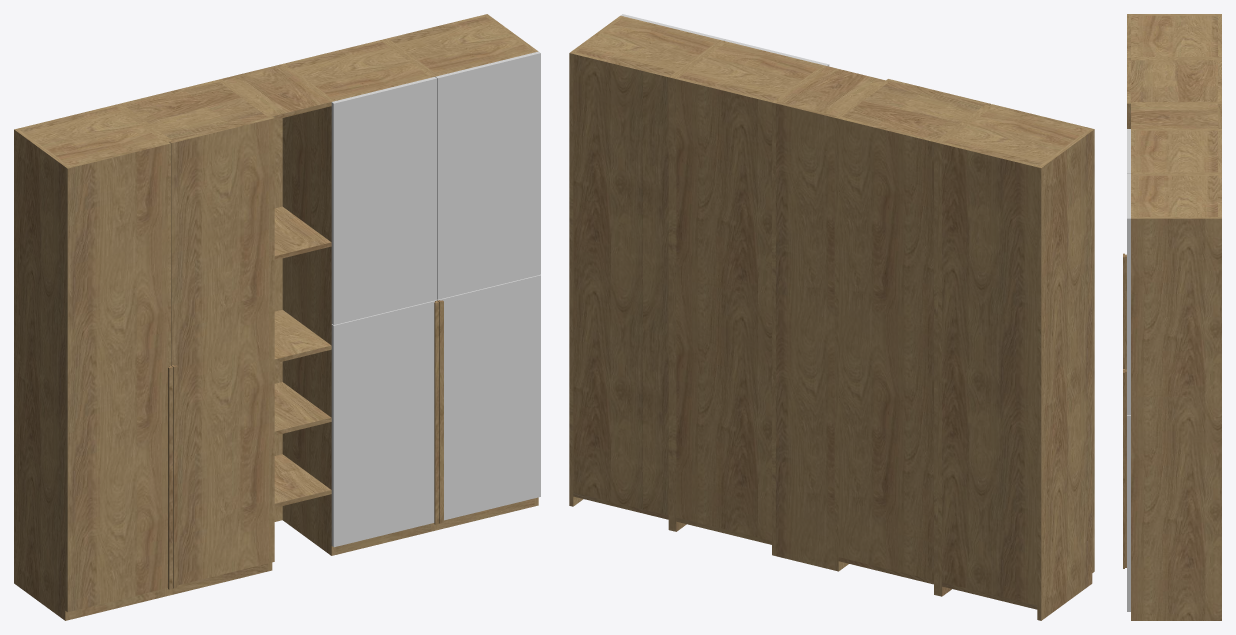
Rendered from wardrobe_nordic.glb.
The picture shows the model from 3 angles, left to right: view 1: azimuth 30°, elevation 25°; view 2: azimuth 150°, elevation 25°; view 3: azimuth 270°, elevation 25°; orthographic projection. The views are drawn at different scales.
Visible parts, largest first — view 1: Nordic Harmony Wardrobe; view 2: Nordic Harmony Wardrobe; view 3: Nordic Harmony Wardrobe.
Boxes of the visible parts, x1=… form: Nordic Harmony Wardrobe: x1=14, y1=14, x2=540, y2=620; Nordic Harmony Wardrobe: x1=569, y1=14, x2=1094, y2=620; Nordic Harmony Wardrobe: x1=1123, y1=14, x2=1221, y2=620.
Bounding box in the file's own units: 2.4 × 2.2 × 0.49.
2 materials, 1 textured.
